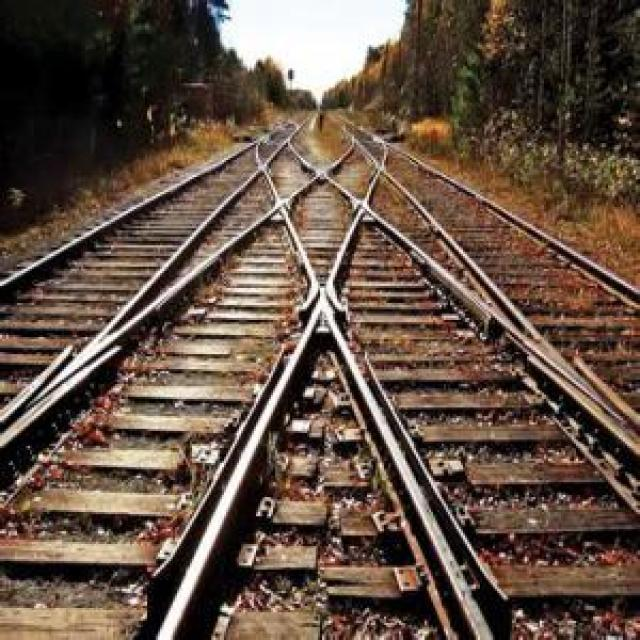rail: (0, 106, 640, 640)
